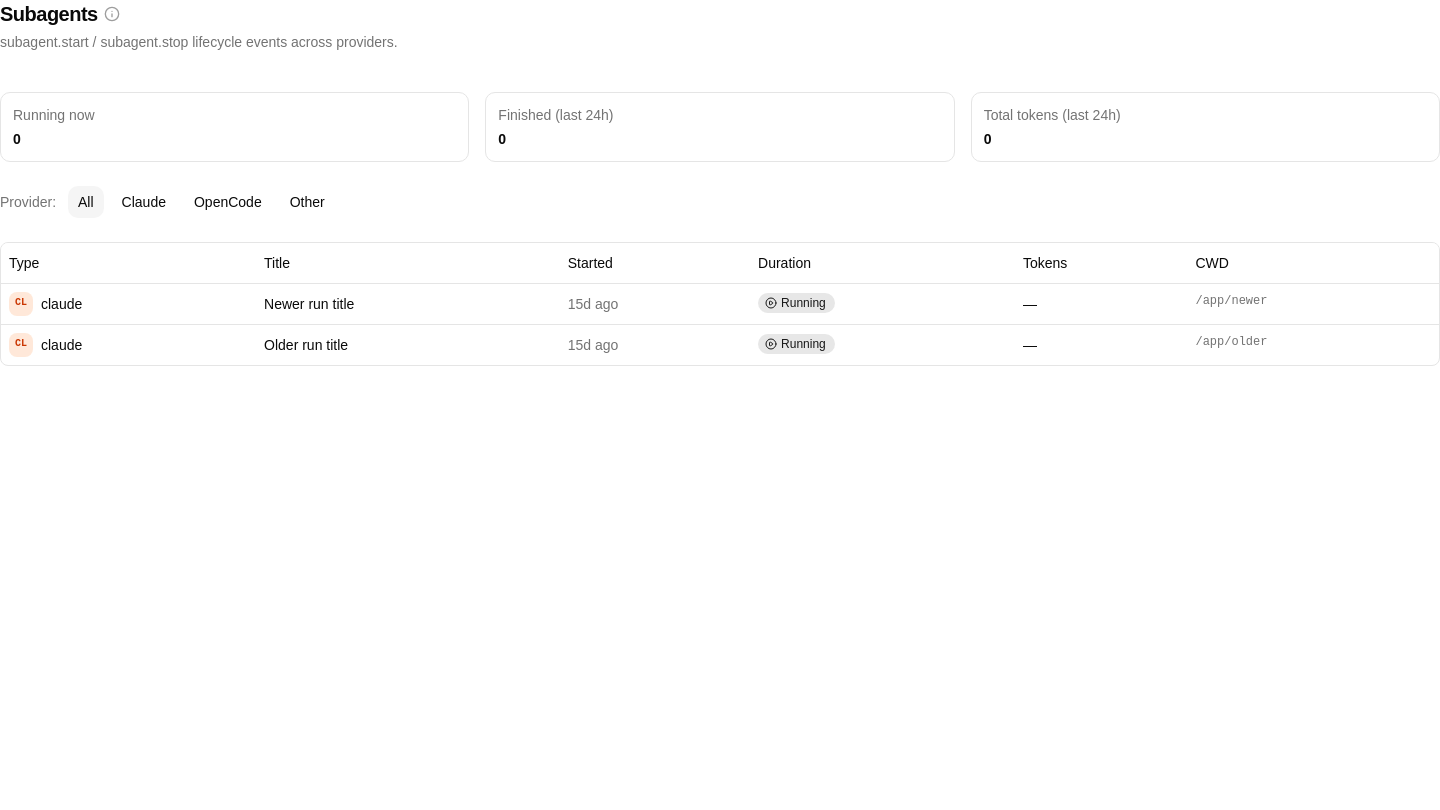
Test case: SubagentsView › sorts runs newest first and opens detail sheet on row click
Expected: the text "Newer run title" is shown, [264, 296, 354, 312]
Expected: the row "CL claude Newer run title 15d ago Running — /app/newer" is shown, [1, 283, 1439, 324]
Click on older run to open sheet
Step 1. Click the row "CL claude Older run title 15d ago Running — /app/older" → click(62, 344), box [1, 324, 1439, 364]
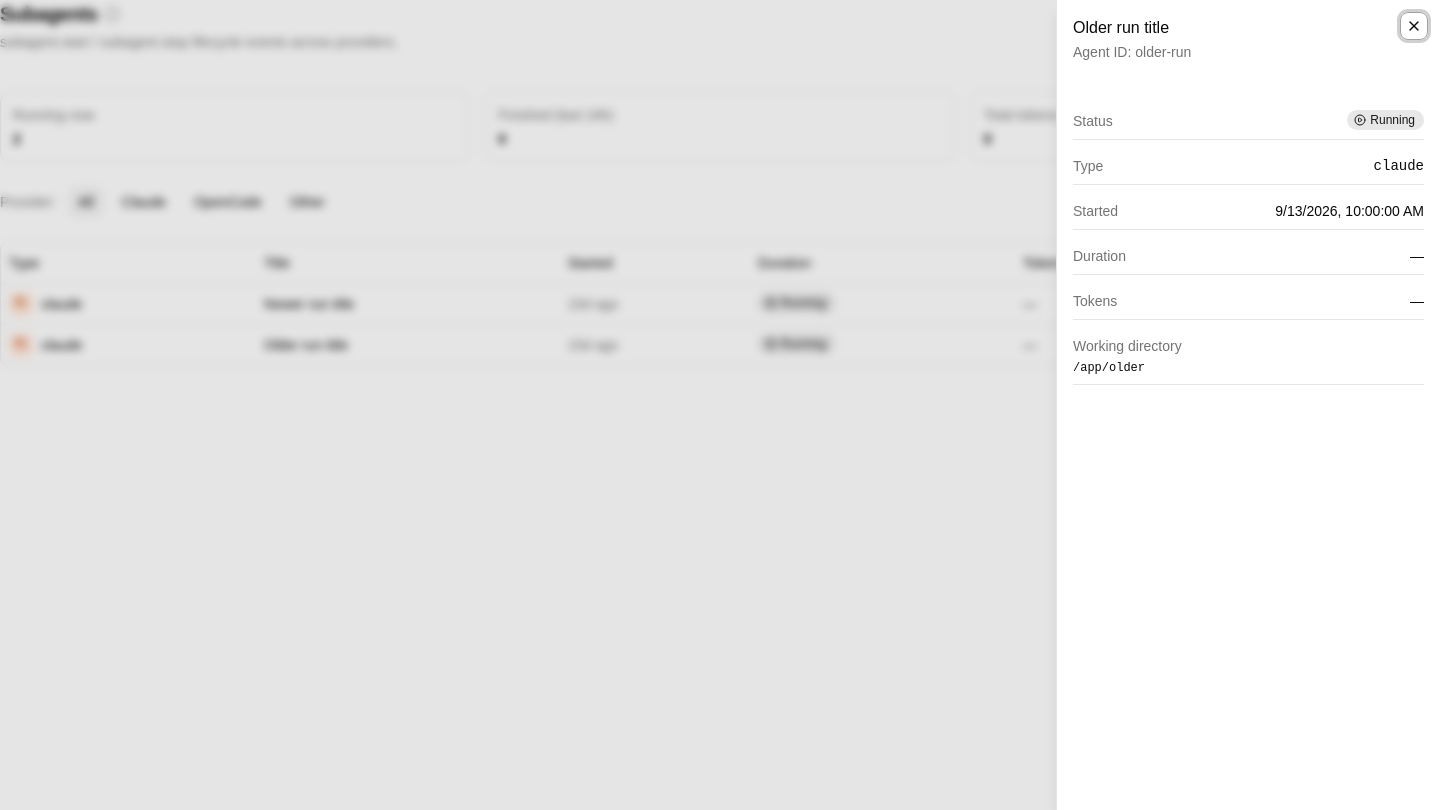
Now the text "Agent ID: older-run" is shown, box [1073, 44, 1191, 60]
